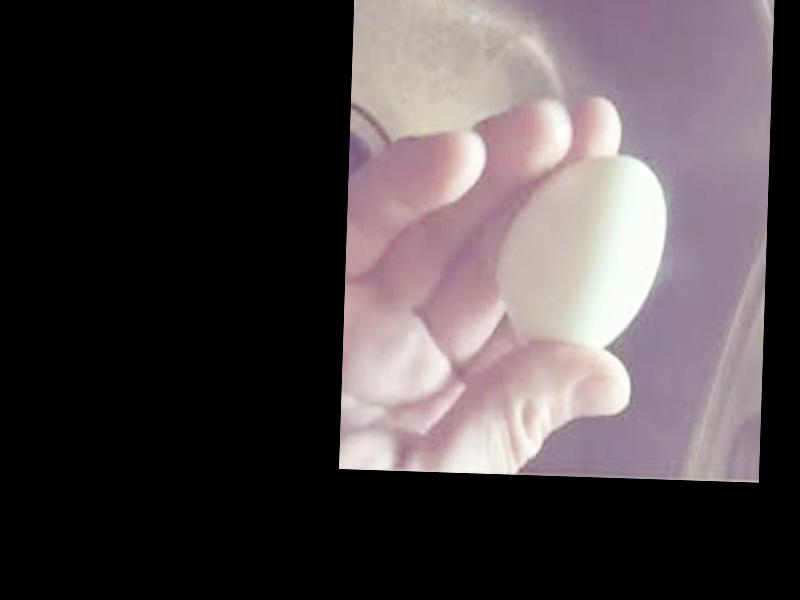Eggs: (499, 156, 668, 354)
